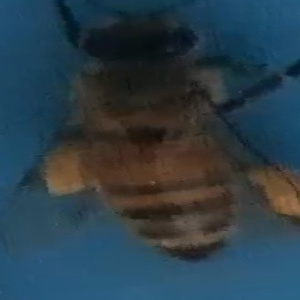bee: (32, 1, 297, 261)
